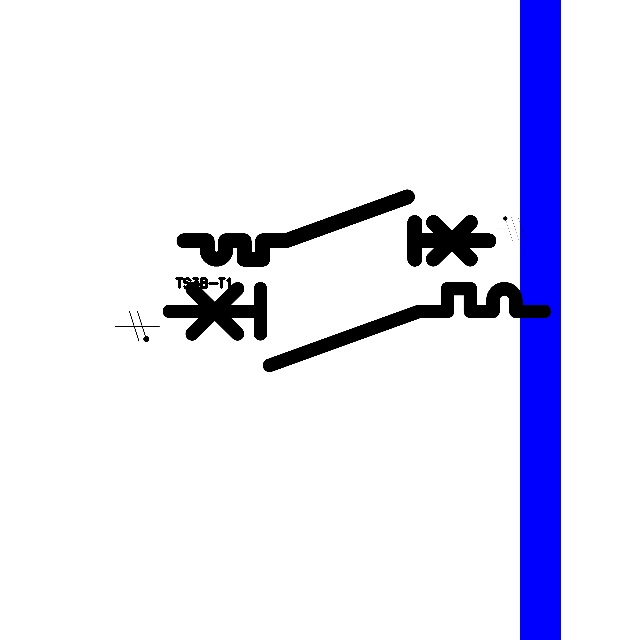interruptor_termomagnetico: (159, 279, 554, 375), (176, 189, 496, 267)
